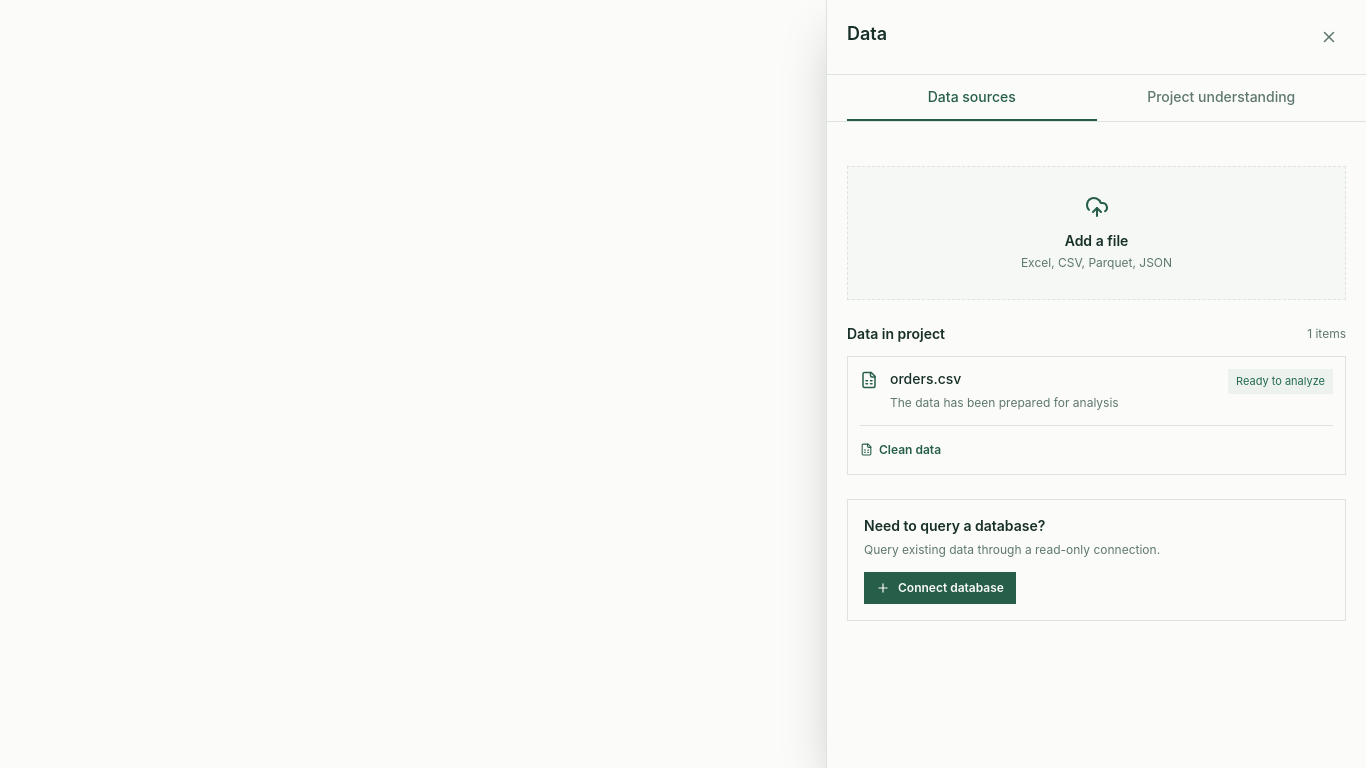
Test: DataWorkspacePanel project understanding › does not expose an unknown Chinese cleaning error in the English editor
Click the button "Clean data" at [900, 450], box [860, 442, 941, 458]
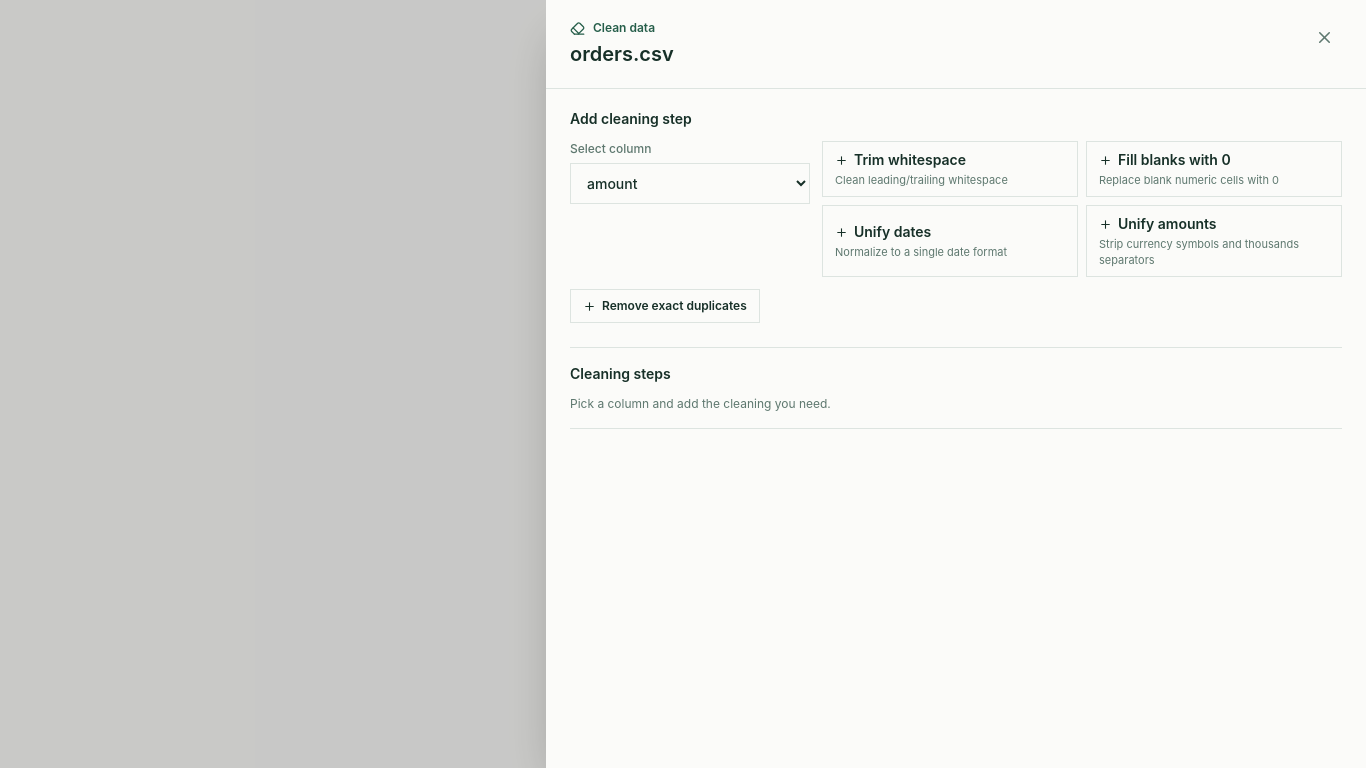
Click the button "Fill blanks with 0 Replace blank numeric cells with 0" at [1214, 169], box [1086, 141, 1342, 197]
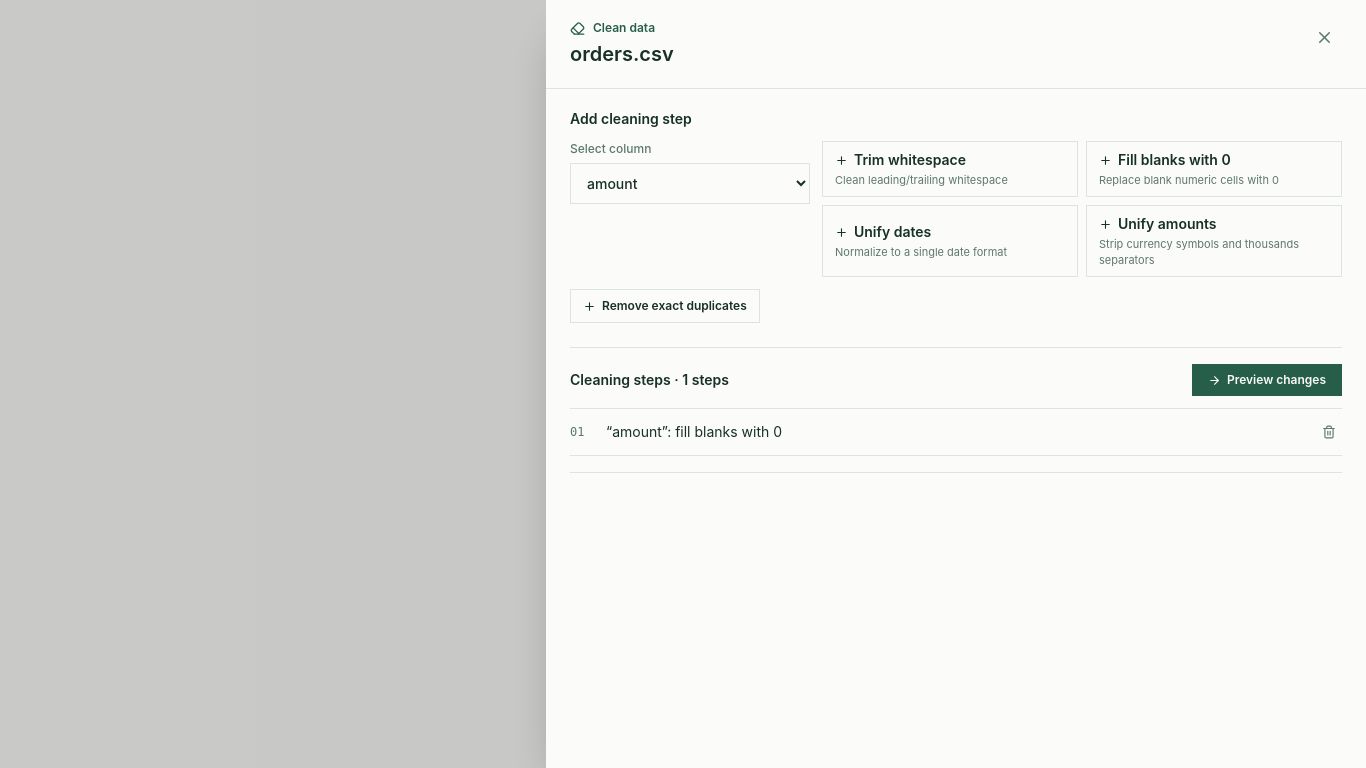
Click the button "Preview changes" at [1267, 380], box [1192, 364, 1342, 396]
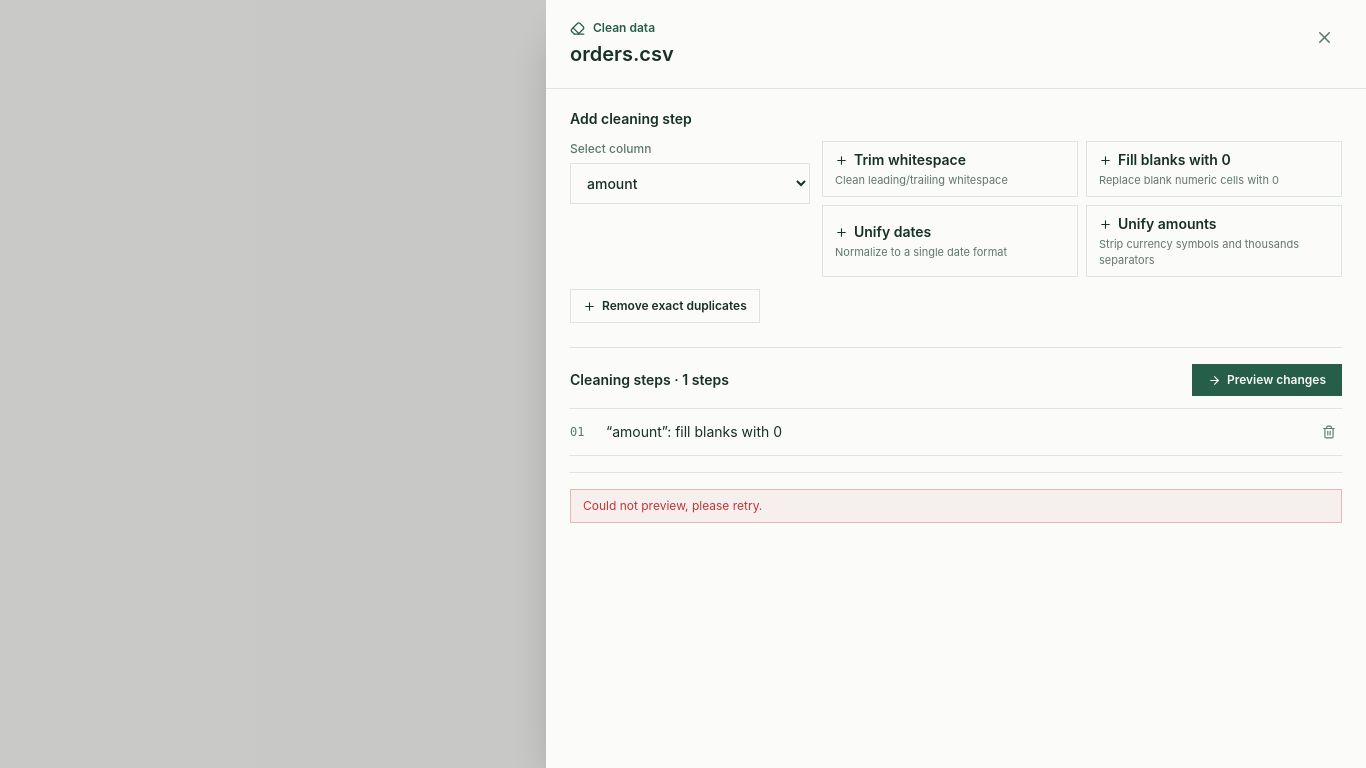
expect the text "Could not preview, please retry." is shown: met, box [570, 489, 1342, 523]
